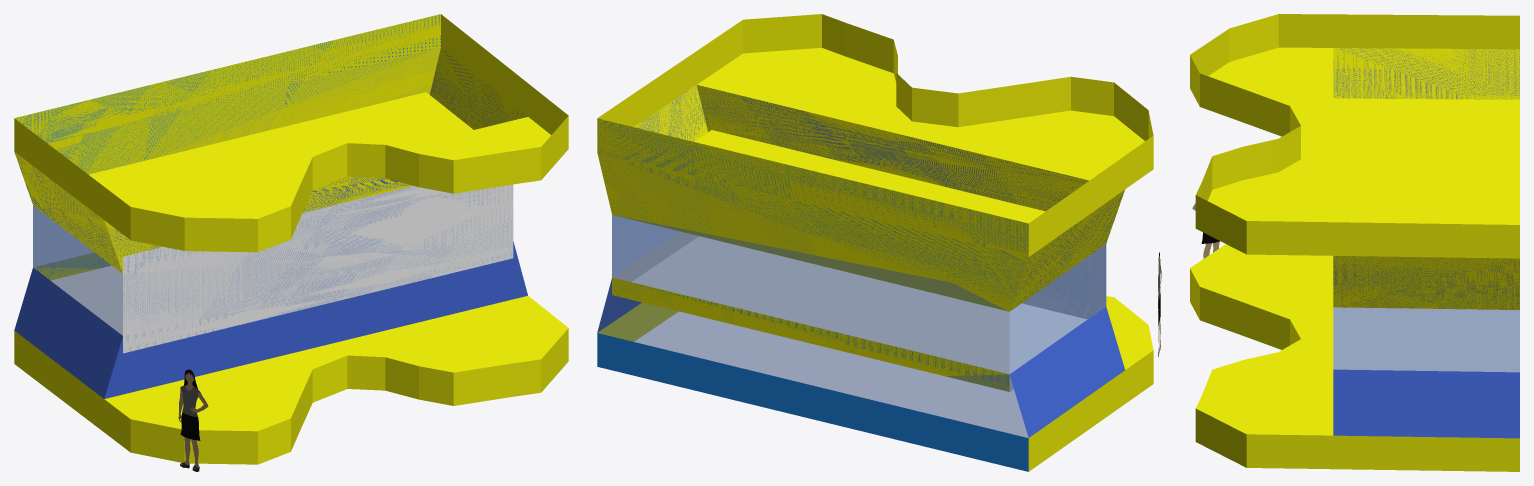
The model's file is banco-02.DAE.
3 views of the same model, side by side, from view 1: azimuth 30°, elevation 25°; view 2: azimuth 150°, elevation 25°; view 3: azimuth 270°, elevation 25° (orthographic).
Parts seen in each view (by area): view 1: SketchUp (×12); view 2: SketchUp (×14); view 3: SketchUp (×9).
Part boxes in pixels (bbox=[...]): SketchUp (×12): bbox=[14, 14, 568, 464]; SketchUp (×14): bbox=[597, 14, 1153, 471]; SketchUp (×9): bbox=[1190, 14, 1519, 471].
Size of the model in its own units: 300 by 198 by 163.
